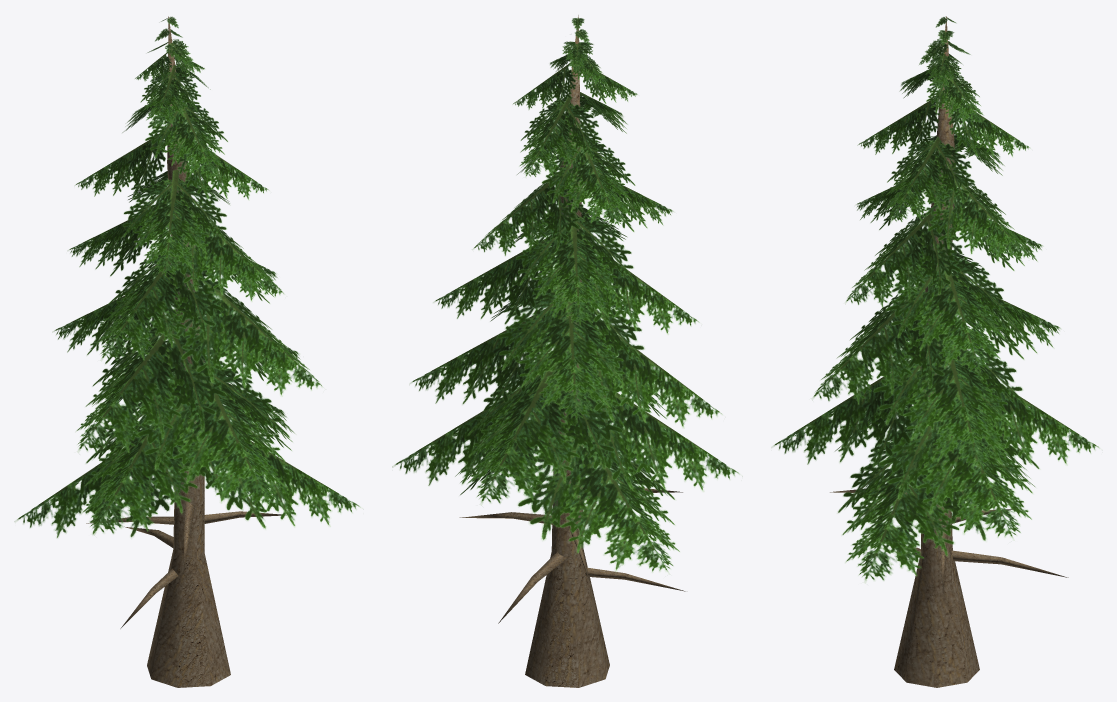
Rendered from stklib_pinetree_b_high.glb.
The picture shows the model from 3 angles, left to right: view 1: azimuth 30°, elevation 25°; view 2: azimuth 150°, elevation 25°; view 3: azimuth 270°, elevation 25°; orthographic projection. The views are drawn at different scales.
Visible parts, largest first — view 1: fir_branch.png__, fir_bark.png__; view 2: fir_branch.png__, fir_bark.png__; view 3: fir_branch.png__, fir_bark.png__.
Boxes of the visible parts, left/top/right/bottom form: fir_branch.png__: left=14, top=16, right=360, bottom=537; fir_bark.png__: left=86, top=16, right=286, bottom=687; fir_branch.png__: left=392, top=18, right=742, bottom=572; fir_bark.png__: left=459, top=15, right=685, bottom=687; fir_branch.png__: left=771, top=16, right=1099, bottom=582; fir_bark.png__: left=830, top=16, right=1068, bottom=687.
Bounding box in the file's own units: 6 × 11.88 × 5.51.
2 materials, 2 textured.
